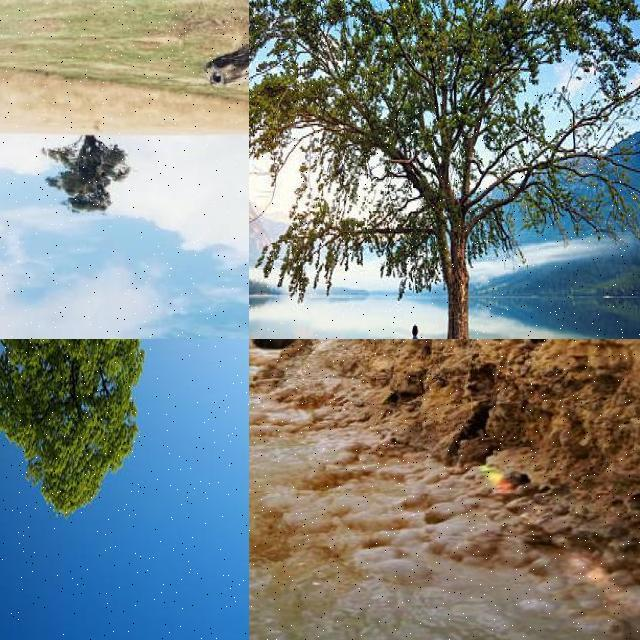tree: (248, 1, 640, 340), (0, 340, 140, 540), (377, 339, 495, 456), (274, 338, 374, 458), (43, 126, 134, 214)
